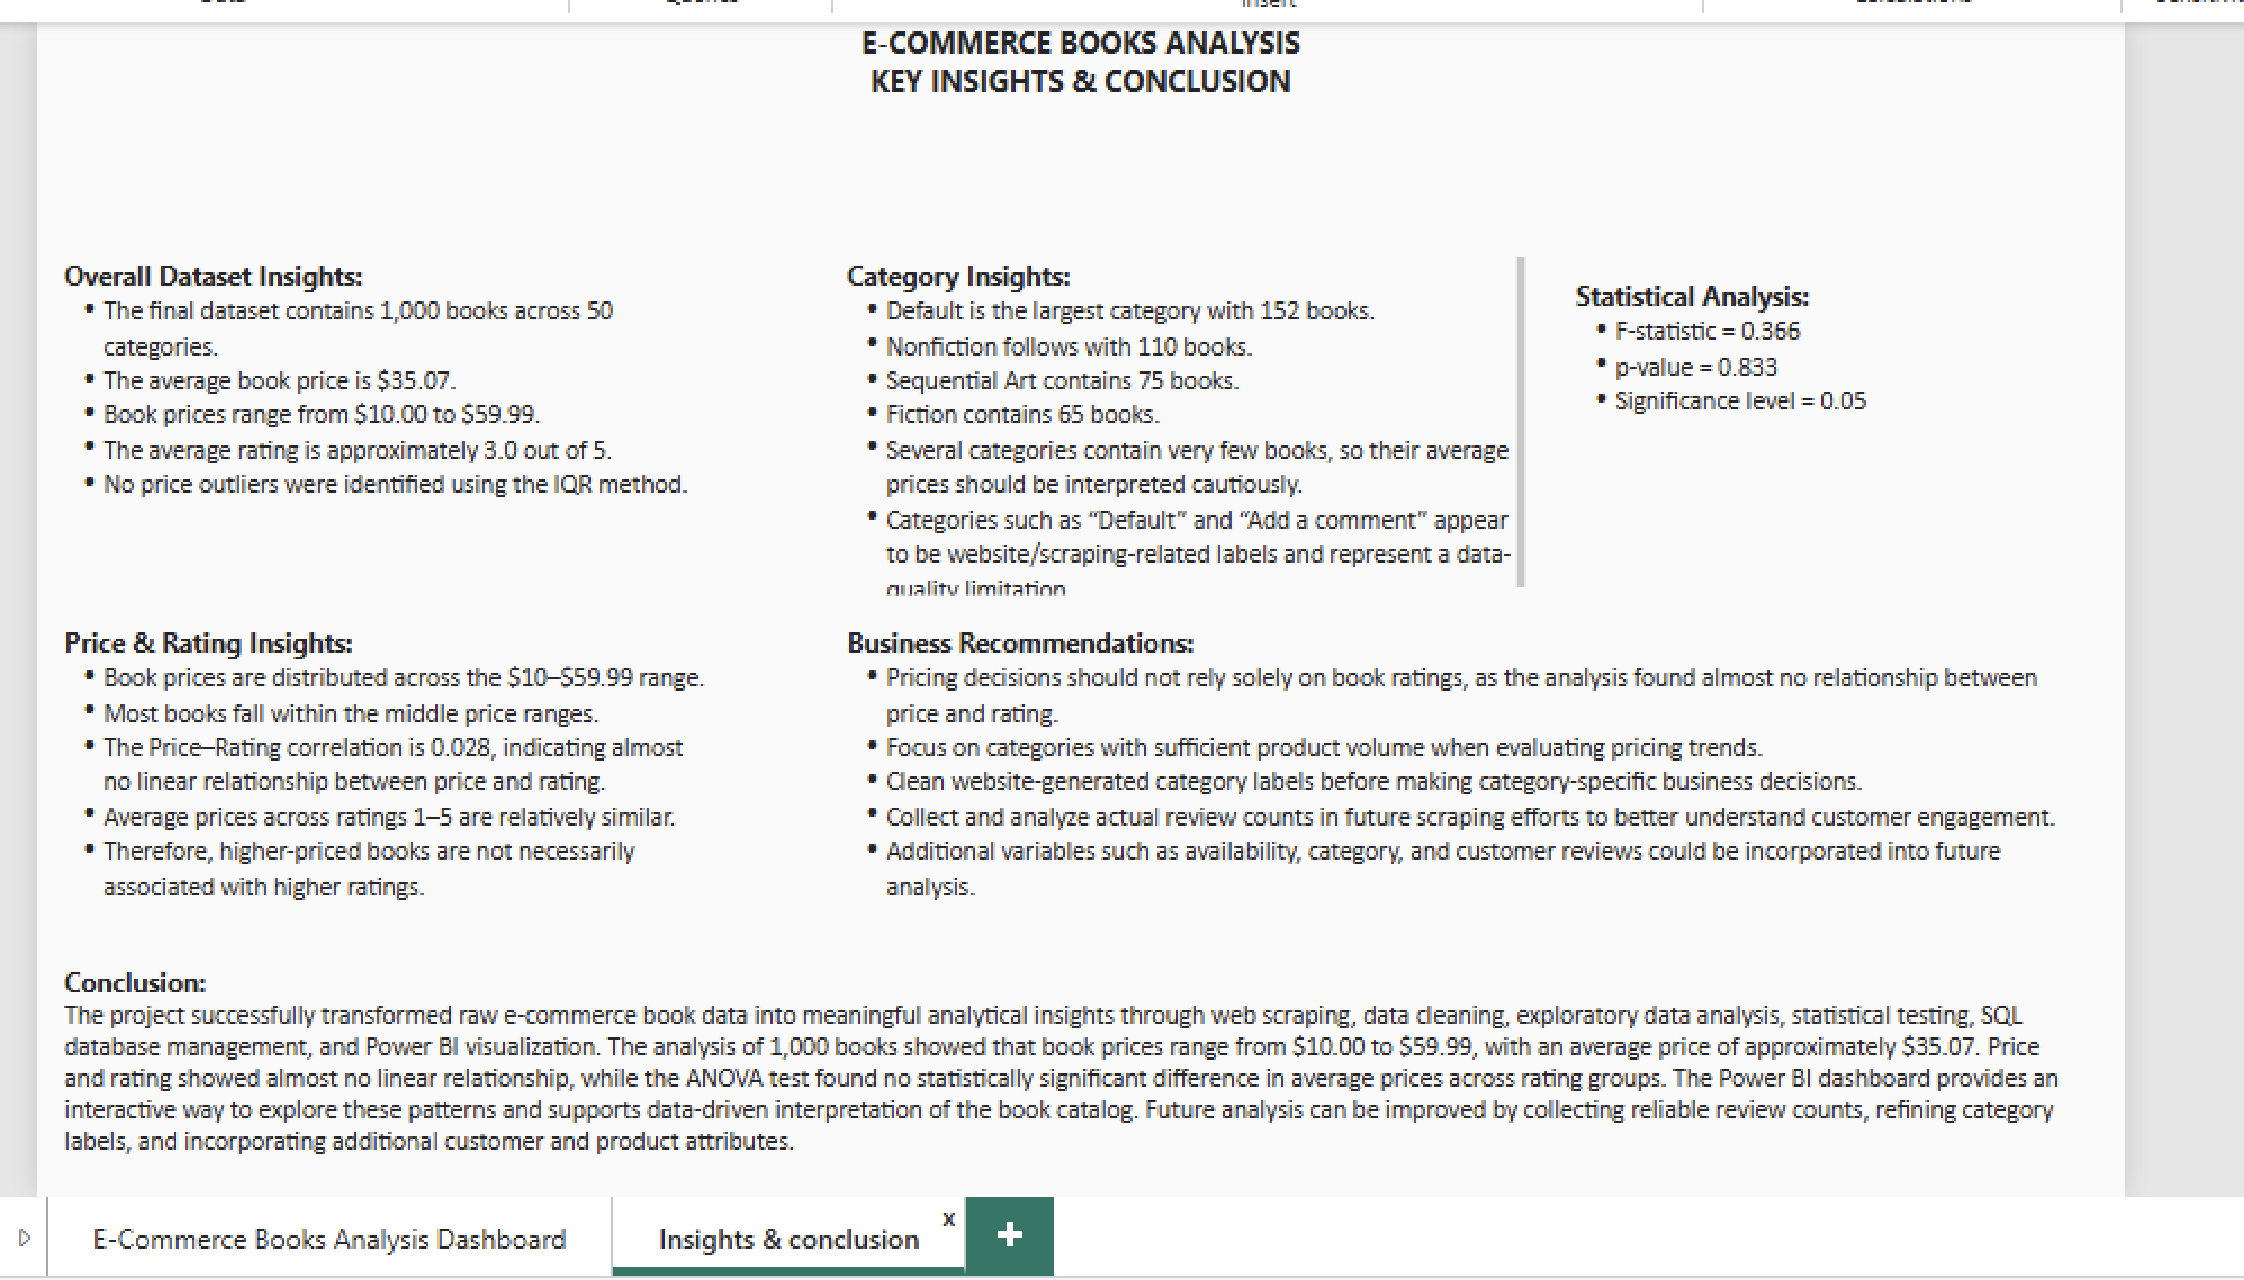

This screenshot's page, from the dashboard's own definition file:
{"tool":"powerbi","page":{"name":"Insights & conclusion","canvas":[1920,1080],"ordinal":1},"visuals":[{"type":"textbox","box":[0,0,1920,72],"z":0},{"type":"textbox","box":[24,216,576,312],"z":1},{"type":"textbox","box":[744,216,624,312],"z":2},{"type":"textbox","box":[24,552,600,288],"z":3},{"type":"textbox","box":[1416,216,456,312],"z":4},{"type":"textbox","box":[744,552,1128,288],"z":5},{"type":"textbox","box":[24,864,1848,192],"z":6}]}

Visuals, with their boxes on the page's 1920x1080 design canvas (x1, y1, x2, y2). These are canvas units, not pixel positions in the 2244x1280 screenshot, which may show the page scaled, cropped or inside an application window:
textbox: [0,0,1920,72]
textbox: [24,216,600,528]
textbox: [744,216,1368,528]
textbox: [24,552,624,840]
textbox: [1416,216,1872,528]
textbox: [744,552,1872,840]
textbox: [24,864,1872,1056]
